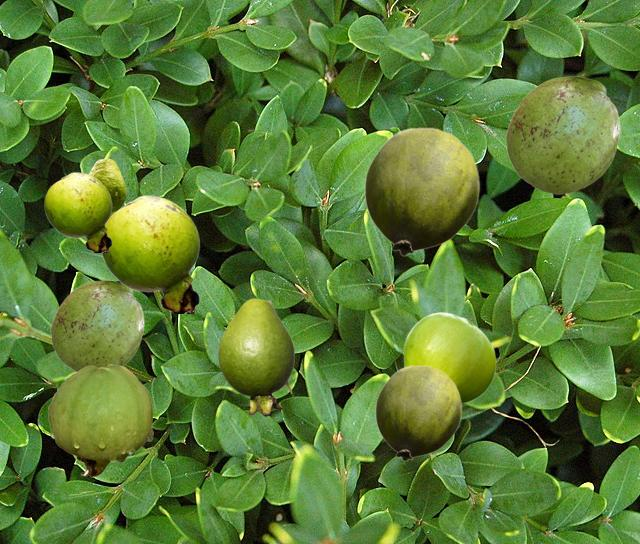guava: (364, 127, 479, 255), (505, 76, 619, 193), (48, 364, 152, 476), (100, 195, 199, 312), (218, 298, 293, 415), (403, 312, 495, 404), (50, 280, 143, 371), (375, 365, 461, 460), (44, 172, 111, 251), (88, 158, 125, 212)
